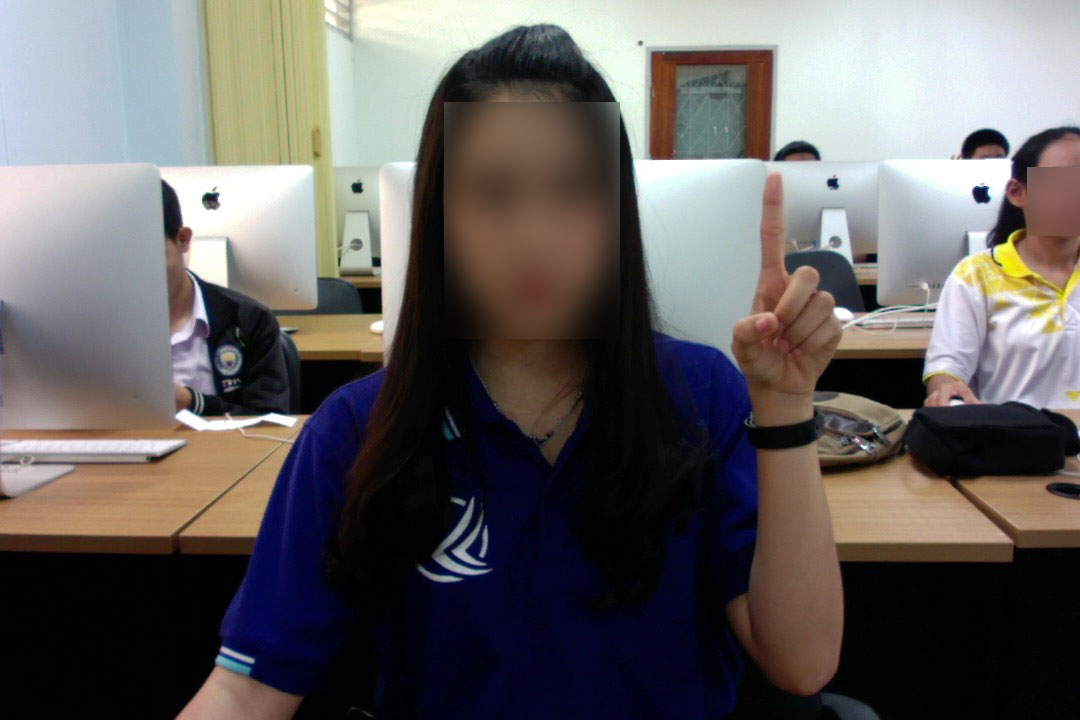dor: (721, 165, 850, 408)
